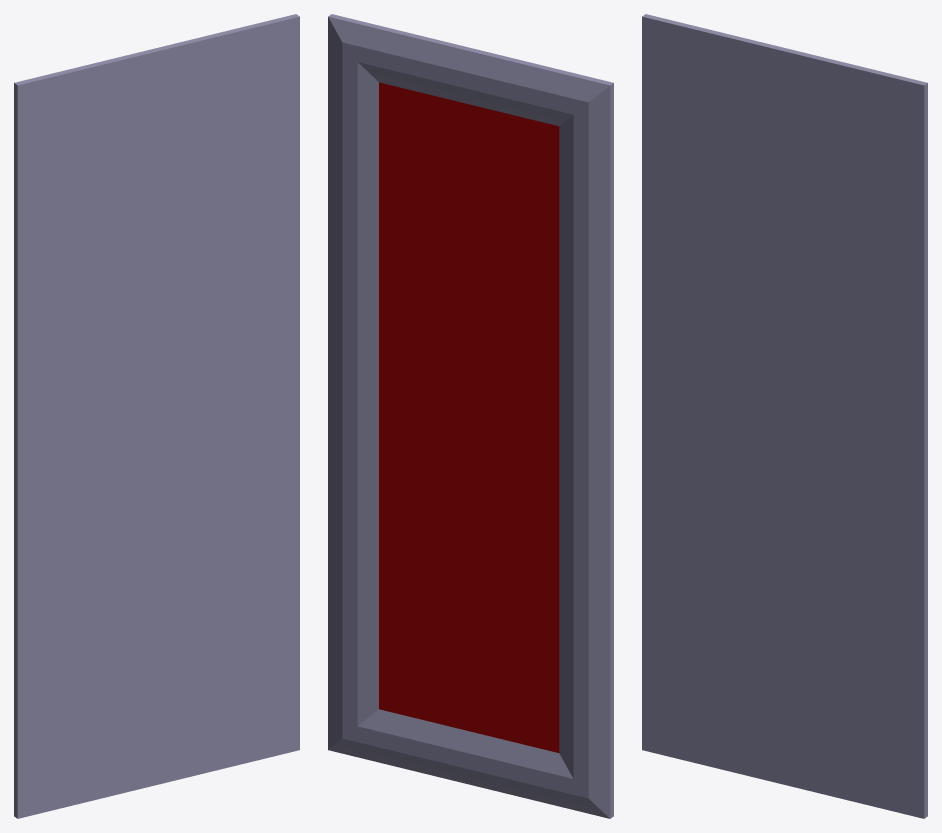
3 renders of one model, left to right at view 1: azimuth 30°, elevation 25°; view 2: azimuth 150°, elevation 25°; view 3: azimuth 330°, elevation 25°, orthographic.
Parts seen in each view (by area): view 1: Box002; view 2: Box002 (×2); view 3: Box002.
Boxes of the visible parts, x1,y1,x2,y2 form: Box002: [14, 14, 299, 818]; Box002 (×2): [328, 14, 613, 818]; Box002: [642, 14, 927, 818].
Size of the model in its own units: 0.805 by 2 by 0.0359.
